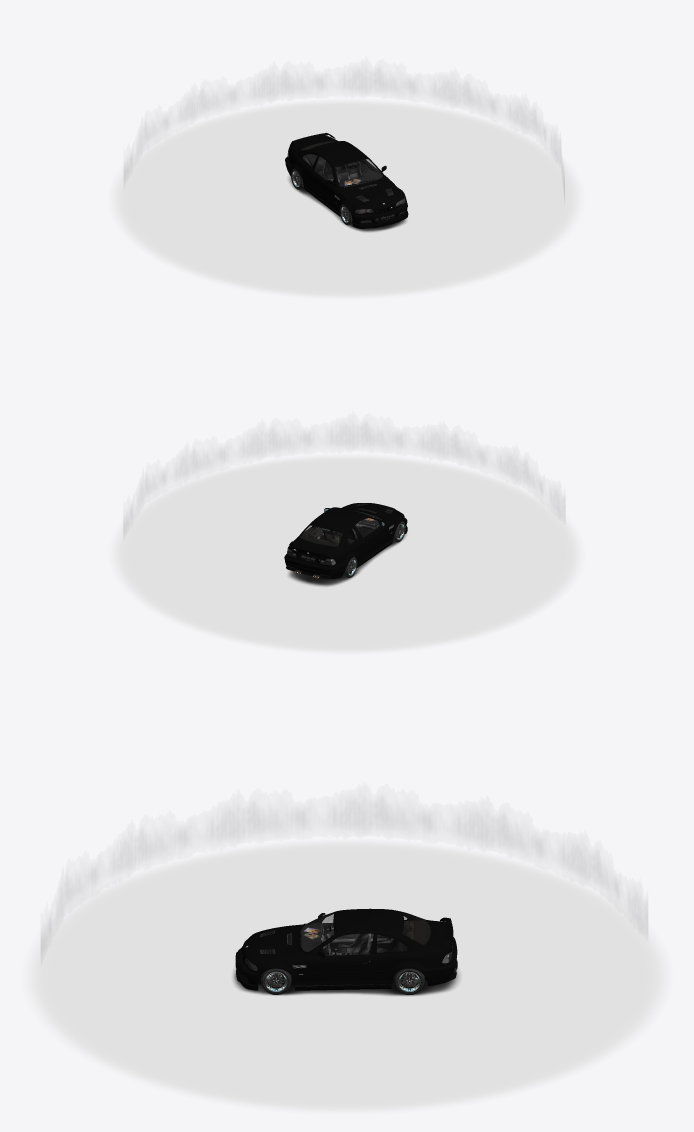
File: bmw_m3_gtr_e46_street_acschnitzer_blackedition.glb
3 views of the same model, one above another, from view 1: azimuth 30°, elevation 25°; view 2: azimuth 150°, elevation 25°; view 3: azimuth 270°, elevation 25° (orthographic). The views are drawn at different scales.
Visible parts, largest first — view 1: BMW M3 GTR E46 Street ACschnitzer BlackEdition by Alex.Ka..o; view 2: BMW M3 GTR E46 Street ACschnitzer BlackEdition by Alex.Ka..o; view 3: BMW M3 GTR E46 Street ACschnitzer BlackEdition by Alex.Ka..o.
Part boxes in pixels (x1=…): BMW M3 GTR E46 Street ACschnitzer BlackEdition by Alex.Ka..o: x1=109, y1=99, x2=583, y2=298; BMW M3 GTR E46 Street ACschnitzer BlackEdition by Alex.Ka..o: x1=110, y1=454, x2=583, y2=653; BMW M3 GTR E46 Street ACschnitzer BlackEdition by Alex.Ka..o: x1=24, y1=839, x2=670, y2=1113.
Bounding box in the file's own units: 14.03 × 2.9 × 13.97.
Materials: 56 (47 with a texture image).
